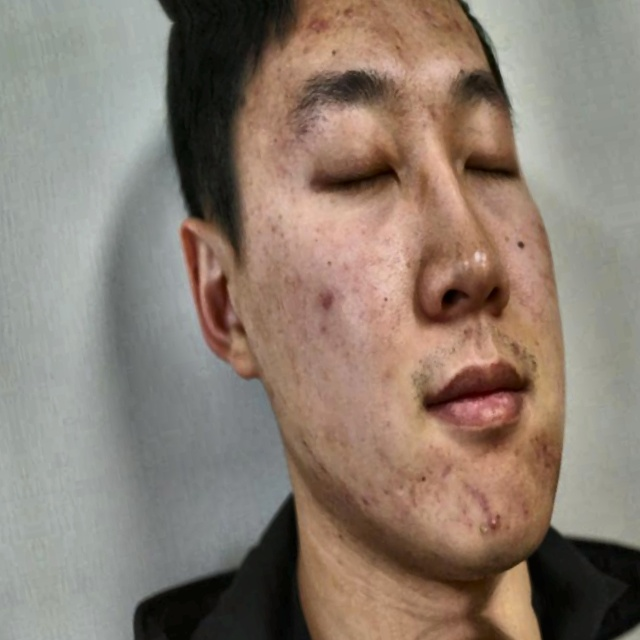comedone: (302, 1, 339, 45), (482, 499, 511, 554), (316, 282, 346, 326)
